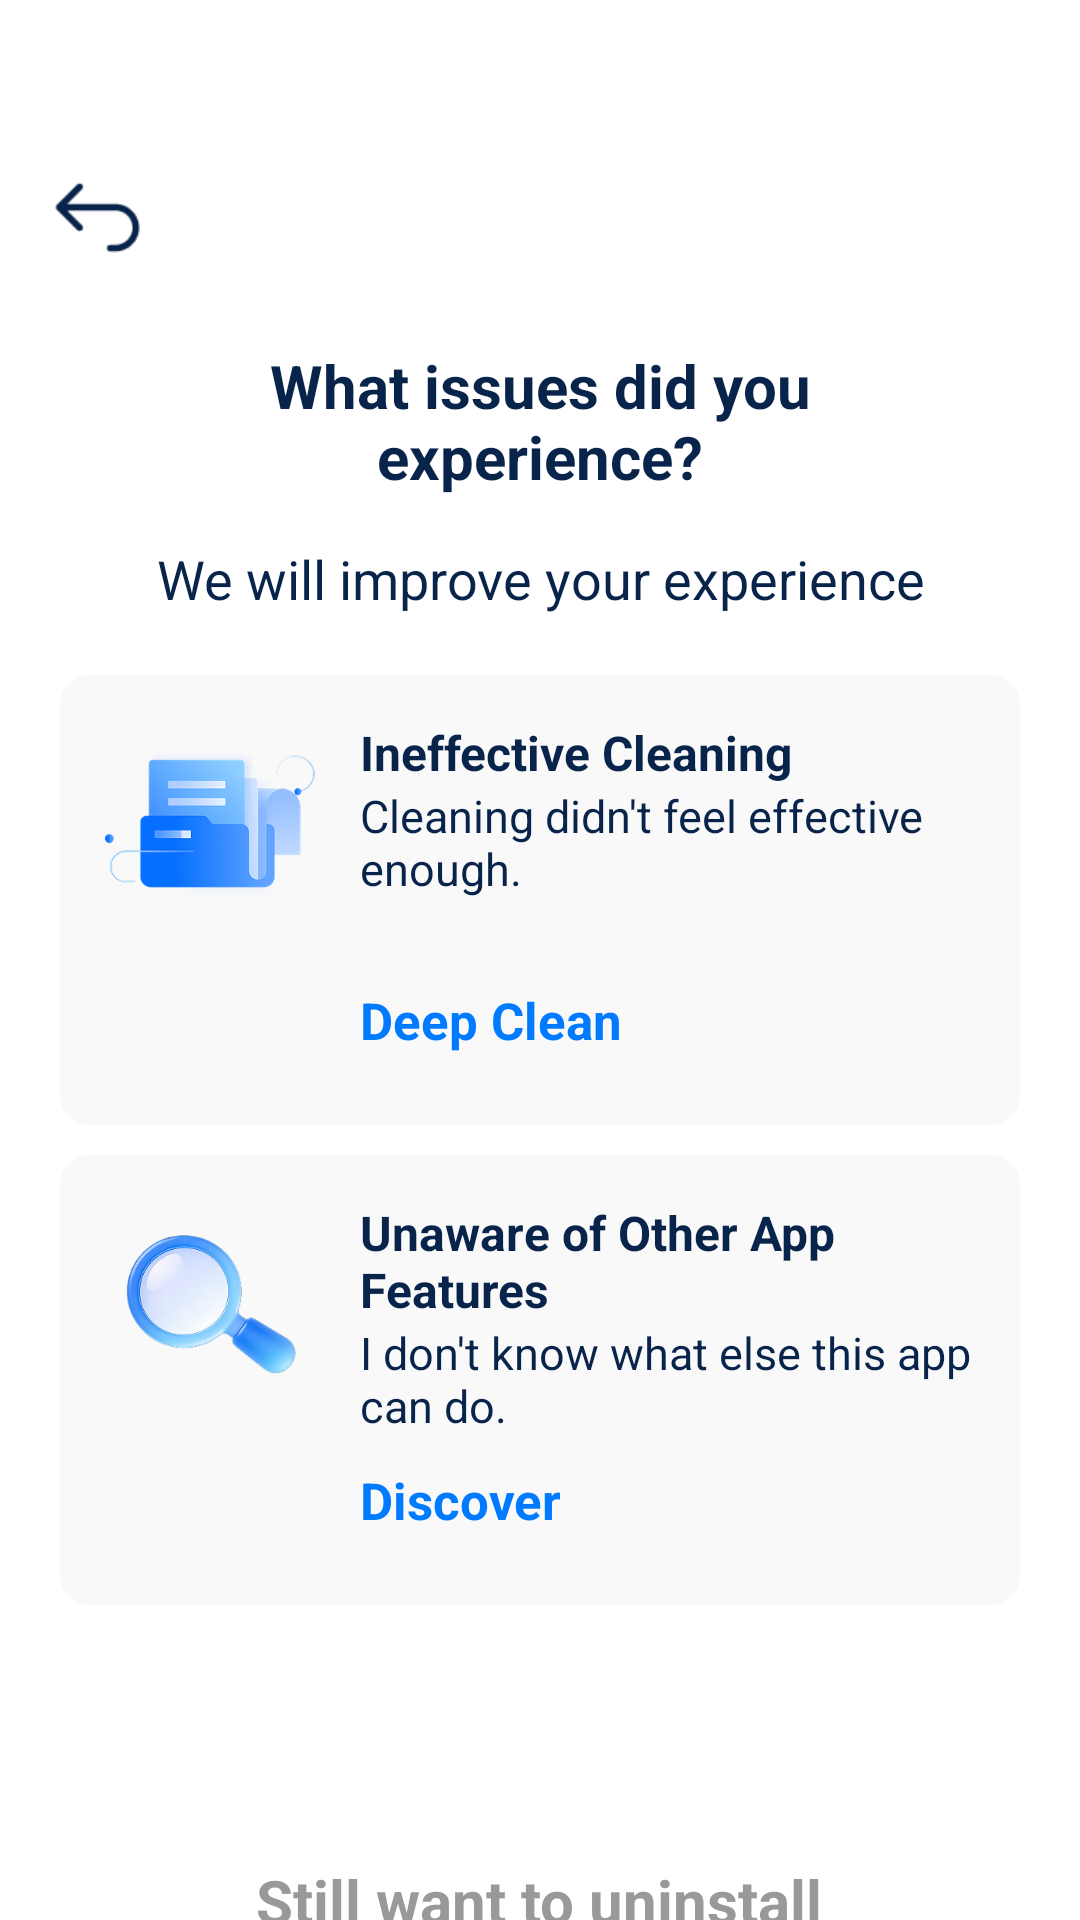

Locate icon controls on the screen. Image size 1080*1920, boxes as (x1, y1, x2, y2).
back: (55, 183, 140, 253)
unisatll serach: (127, 1235, 296, 1373)
